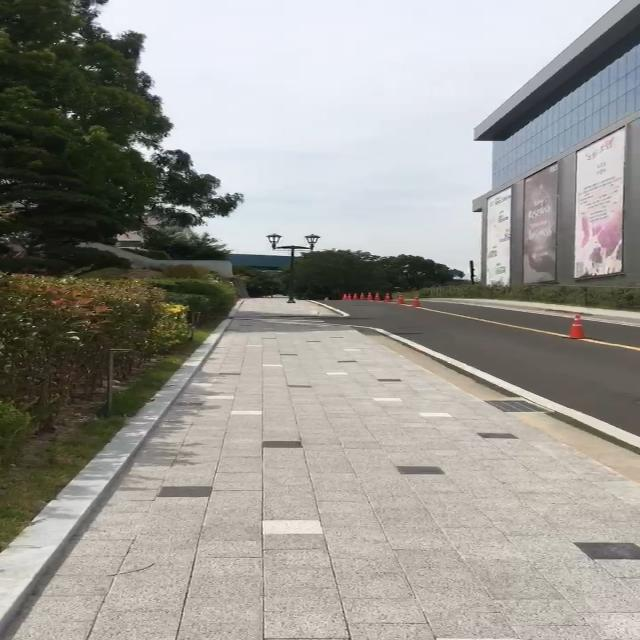obstacle: (553, 307, 603, 342)
road: (317, 297, 640, 481)
sidewalk: (0, 319, 640, 640), (418, 298, 640, 327), (230, 296, 341, 319)
